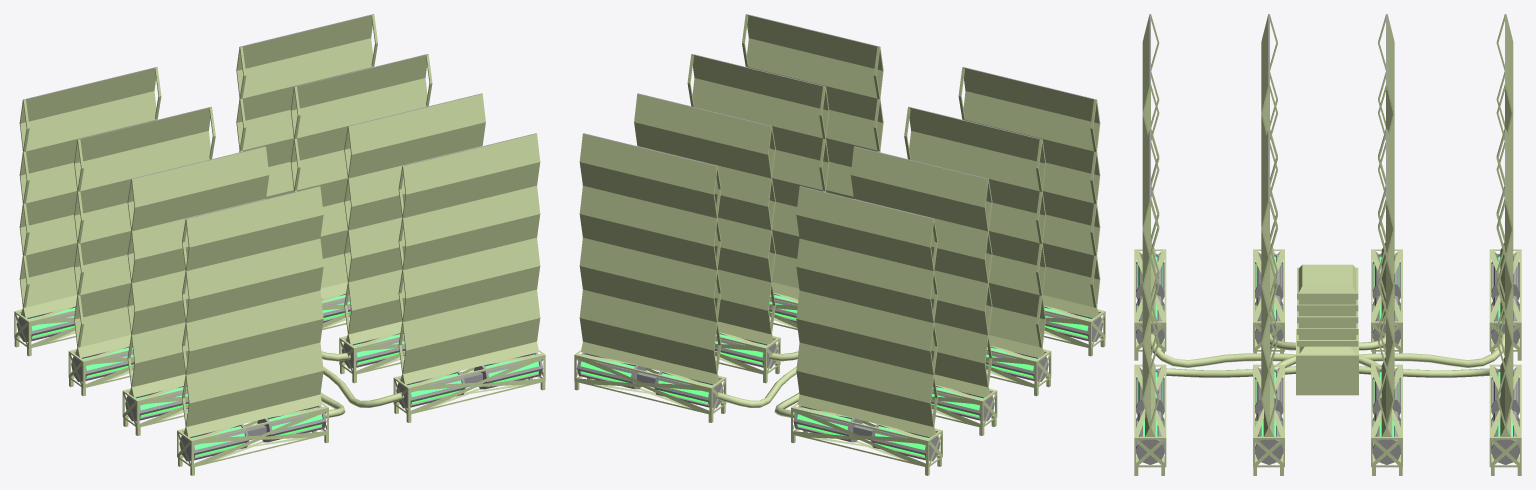
File: Power T3.fbx
3 views of the same model, side by side, from view 1: azimuth 30°, elevation 25°; view 2: azimuth 150°, elevation 25°; view 3: azimuth 270°, elevation 25° (orthographic). The views are drawn at different scales.
Parts seen in each view (by area): view 1: Power T3.001; view 2: Power T3.001; view 3: Power T3.001.
Boxes of the visible parts, <box> form: Power T3.001: <box>14,14,545,475</box>; Power T3.001: <box>574,14,1105,475</box>; Power T3.001: <box>1134,14,1521,475</box>.
Size of the model in its own units: 1740 by 1180 by 1510.
